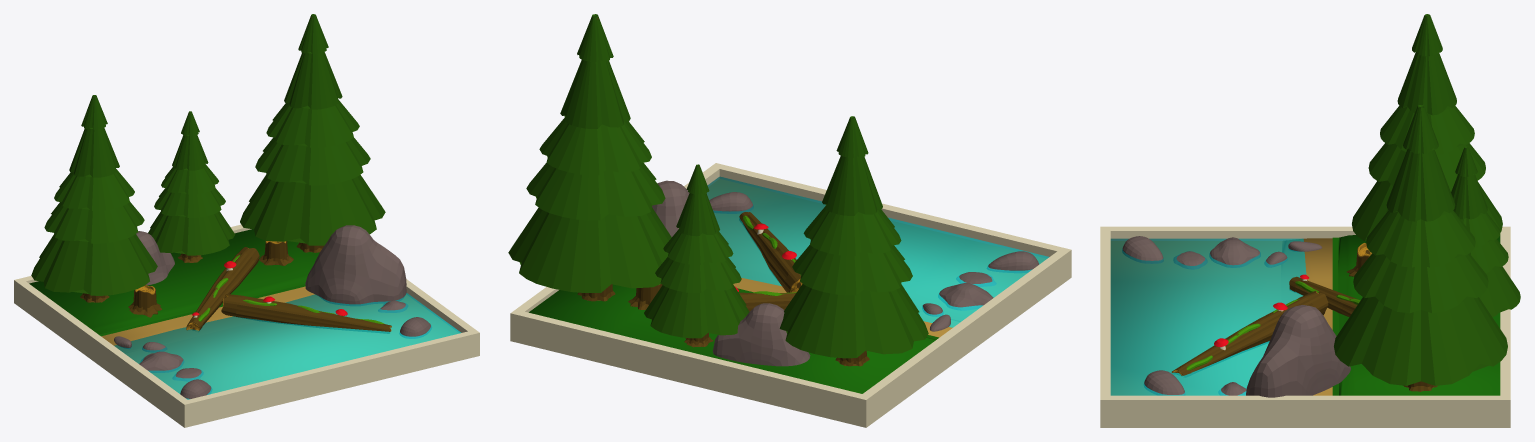
The model's file is Merged Animal Habitat Beever with tree trunks.fbx.
The picture shows the model from 3 angles, left to right: view 1: azimuth 30°, elevation 25°; view 2: azimuth 150°, elevation 25°; view 3: azimuth 270°, elevation 25°; orthographic projection. The views are drawn at different scales.
Visible parts, largest first — view 1: Cylinder.014; view 2: Cylinder.014; view 3: Cylinder.014.
Part boxes in pixels (<box>): Cylinder.014: <box>14,14,479,427</box>; Cylinder.014: <box>508,14,1071,427</box>; Cylinder.014: <box>1100,14,1520,427</box>.
Bounding box in the file's own units: 6777 × 4878 × 6149.
